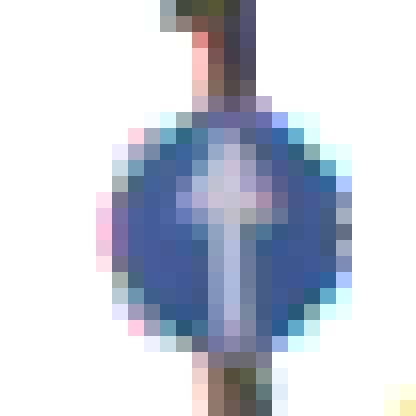AheadOnly: (81, 81, 337, 337)
